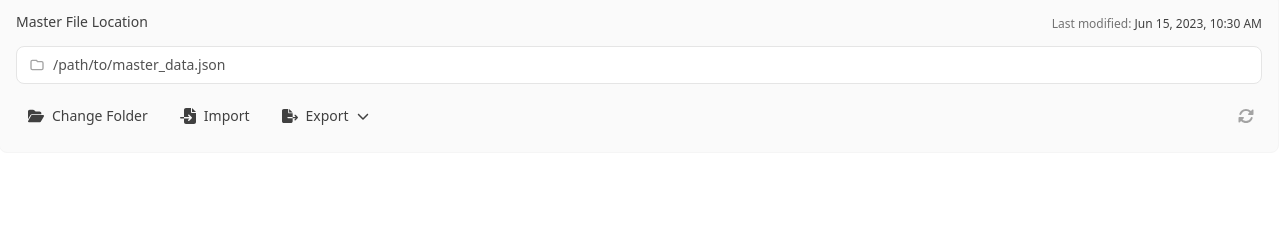
Test case: FileLocationSection › Export Dropdown › should show export dropdown when clicking Export button
Click the button "Export" at (325, 116), box [270,98,381,134]
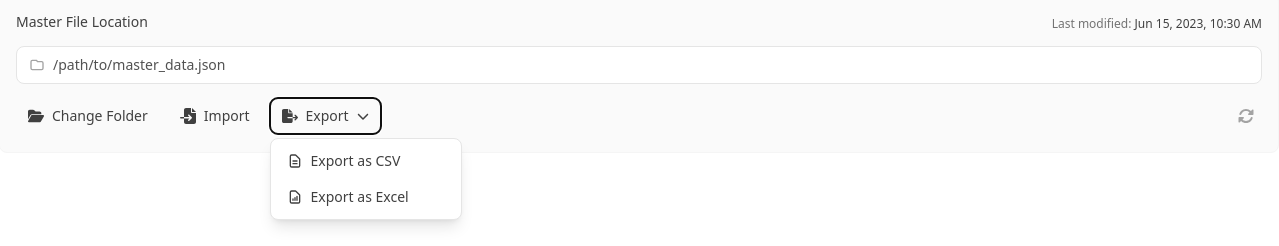
Expected: the button "Export as CSV" is shown, [271,143,461,179]
Expected: the button "Export as Excel" is shown, [271,179,461,215]
